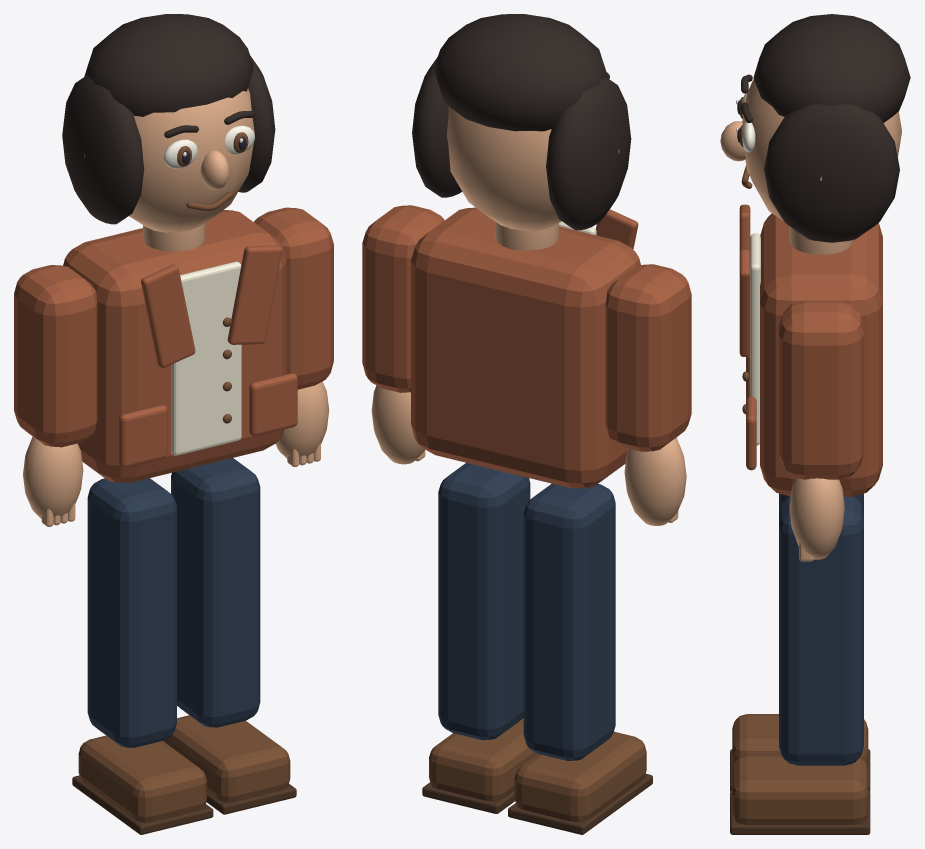
File: resident_0.glb
3 renders of one model, left to right at view 1: azimuth 30°, elevation 25°; view 2: azimuth 150°, elevation 25°; view 3: azimuth 270°, elevation 25°, orthographic. The views are drawn at different scales.
Visible parts, largest first — view 1: Jacket_body, Trouser_leg, Trouser_leg.001, Jacket_sleeve, Hair_cap, Shirt_front, Face, Bob_side, Jacket_sleeve.001, Leather_shoe, Leather_shoe.001, Lapel.001 (+10 smaller); view 2: Jacket_body, Trouser_leg, Trouser_leg.001, Hair_cap, Jacket_sleeve, Bob_side, Face, Jacket_sleeve.001, Leather_shoe, Leather_shoe.001, Hand, Bob_side.001 (+5 smaller); view 3: Trouser_leg.001, Jacket_body, Bob_side.001, Jacket_sleeve.001, Hair_cap, Leather_shoe.001, Hand.001, Face, Leather_shoe, Shirt_front, Sole.001, Lapel.001 (+4 smaller).
Boxes of the visible parts, x1,y1,x2,y2 form: Jacket_body: (63, 210, 286, 482); Trouser_leg: (87, 478, 176, 747); Trouser_leg.001: (171, 458, 260, 727); Jacket_sleeve: (14, 265, 97, 447); Hair_cap: (84, 14, 253, 116); Shirt_front: (171, 261, 241, 455); Face: (129, 88, 254, 232); Bob_side: (62, 75, 144, 224); Jacket_sleeve.001: (254, 207, 333, 389); Leather_shoe: (78, 735, 206, 822); Leather_shoe.001: (163, 715, 290, 802); Lapel.001: (227, 245, 282, 344); Jacket_body: (411, 207, 640, 488); Trouser_leg: (523, 483, 615, 760); Trouser_leg.001: (438, 462, 530, 740); Hair_cap: (434, 14, 608, 131); Jacket_sleeve: (605, 264, 691, 451); Bob_side: (546, 77, 631, 230); Face: (447, 106, 561, 230); Jacket_sleeve.001: (362, 205, 444, 392); Leather_shoe: (514, 731, 646, 822); Leather_shoe.001: (429, 718, 537, 801); Hand: (624, 437, 686, 525); Bob_side.001: (412, 57, 462, 197); Trouser_leg.001: (779, 496, 863, 765); Jacket_body: (760, 213, 882, 496); Bob_side.001: (764, 104, 899, 242); Jacket_sleeve.001: (779, 300, 863, 479); Hair_cap: (753, 14, 910, 122); Leather_shoe.001: (732, 755, 868, 824); Hand.001: (789, 477, 844, 559); Face: (742, 79, 901, 221); Leather_shoe: (732, 714, 868, 769); Shirt_front: (750, 233, 760, 445); Sole.001: (730, 790, 870, 834); Lapel.001: (739, 249, 750, 356).
Bounding box in the file's own units: 0.83 × 2 × 0.448.
